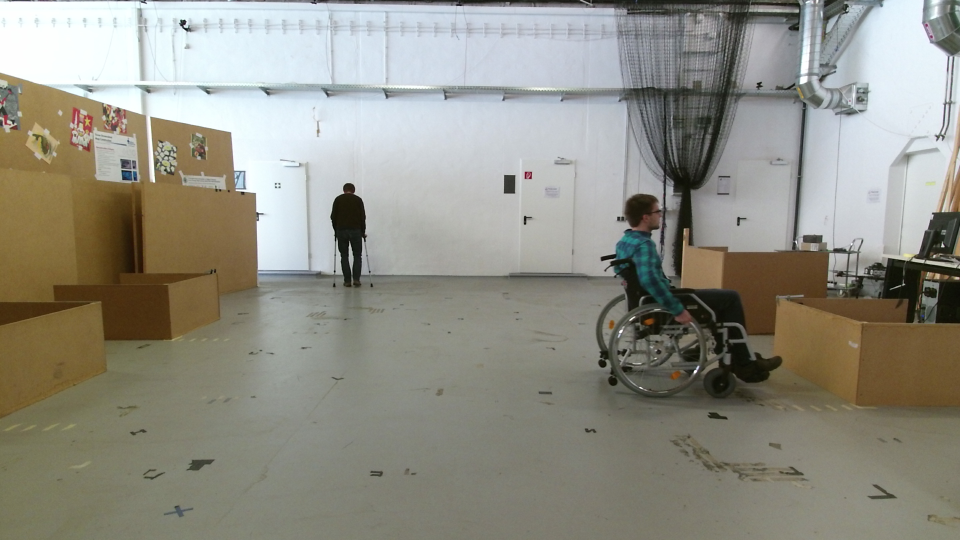crutches: (317, 173, 379, 300)
wheelchair: (594, 184, 778, 402)
